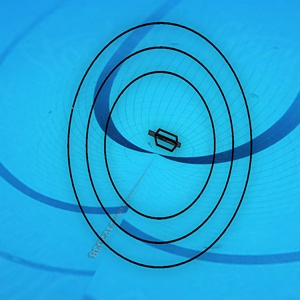circle: (66, 21, 253, 270)
submarine: (148, 128, 180, 150)
